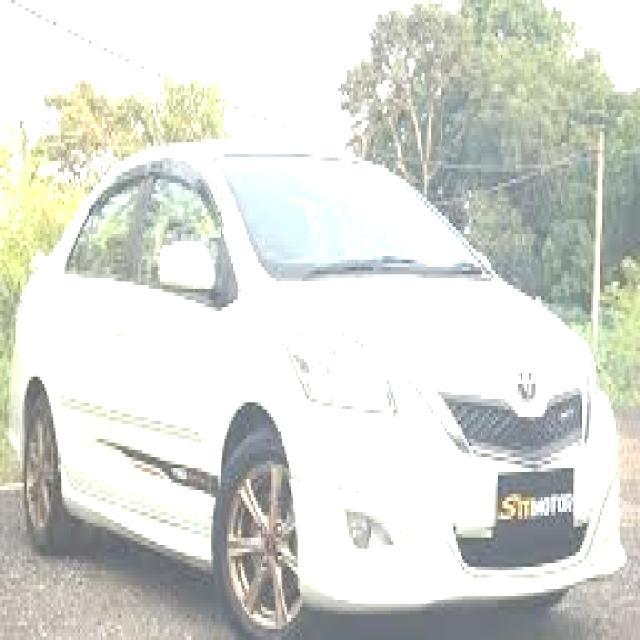ToyotaVios: (8, 137, 627, 635)
